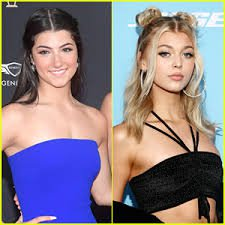noMask: (132, 19, 203, 95), (18, 14, 81, 88)
